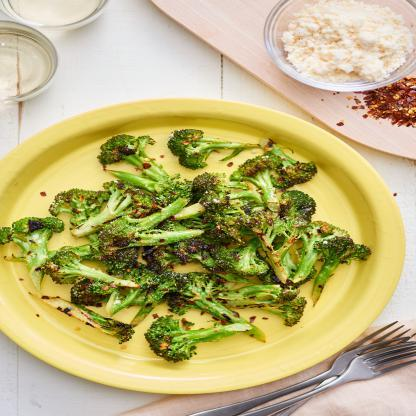broccoli: (0, 128, 373, 364)
